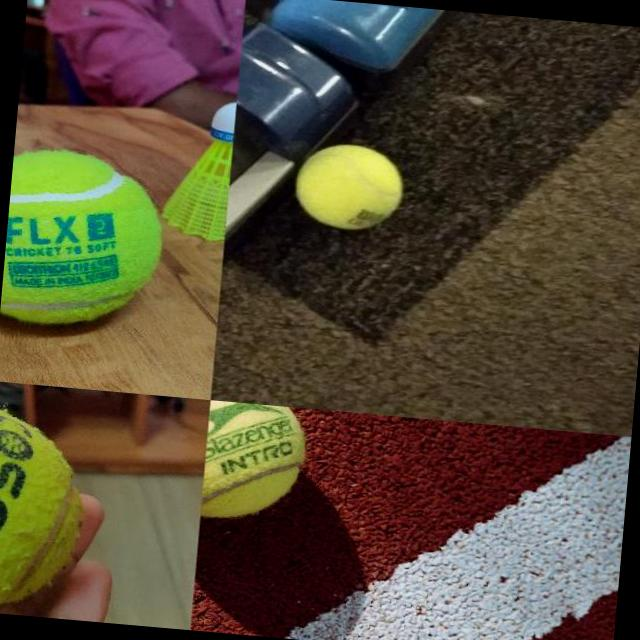tennis-ball: (0, 147, 167, 331), (0, 405, 89, 618), (200, 400, 310, 526), (290, 140, 406, 233)
